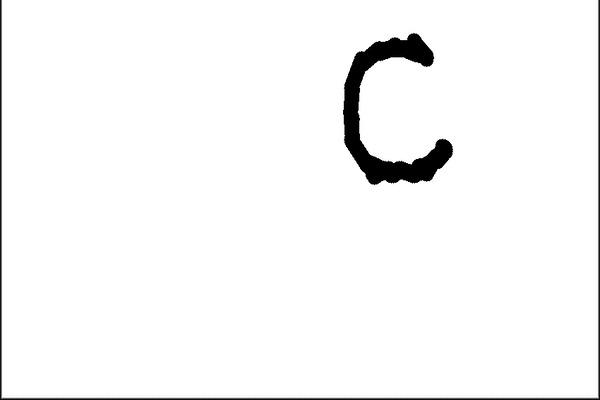C: (336, 28, 456, 190)
